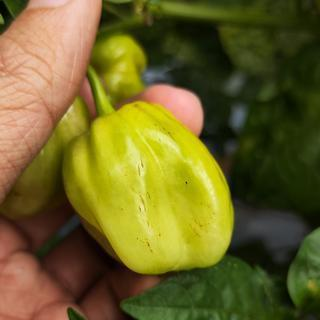Grade-A: (54, 100, 235, 278)
